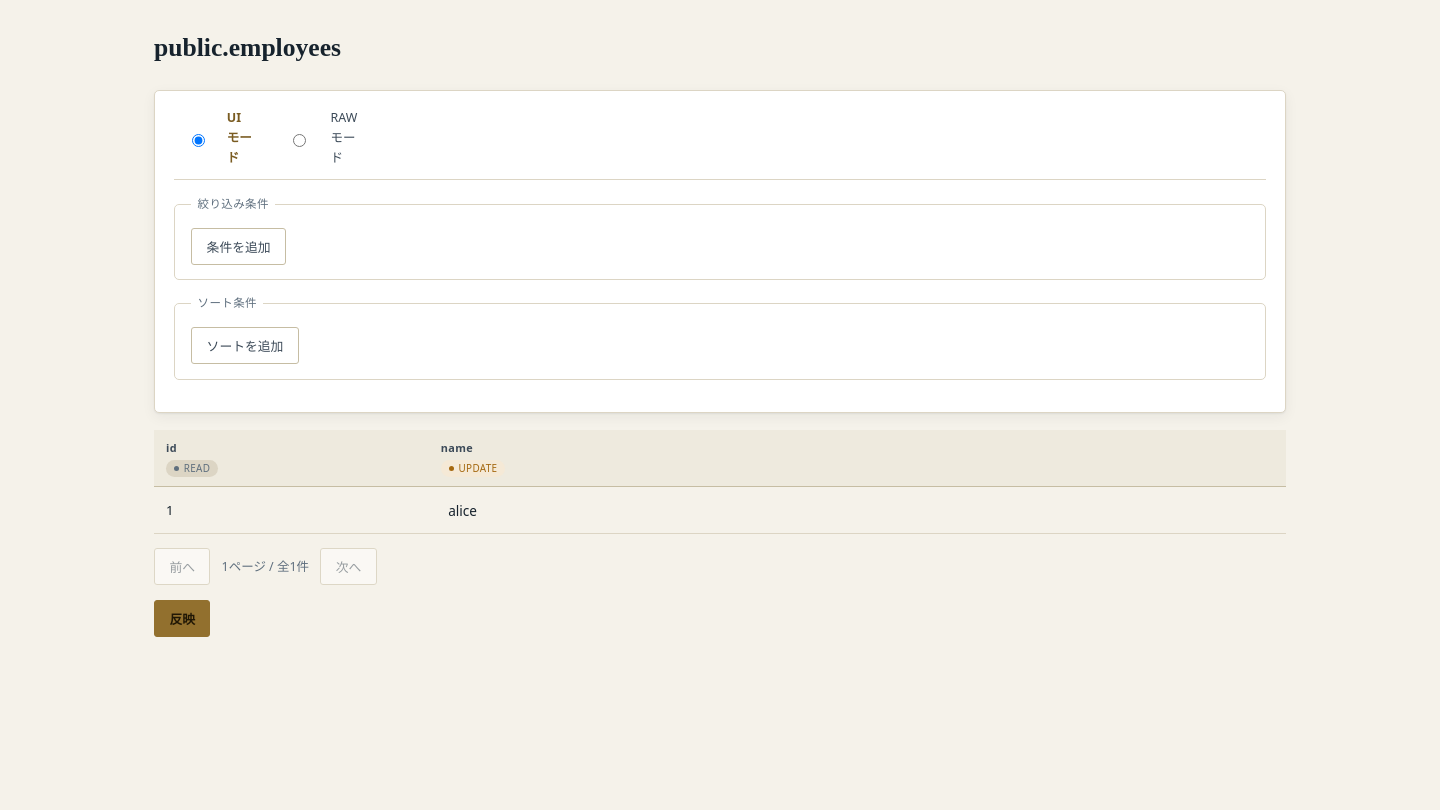
Scenario: RecordListPage › keeps pending changes when the mutation fails
Replace the text in the field showing "alice" with "bob". click: (857, 510)
box: [441,495,1274,525]
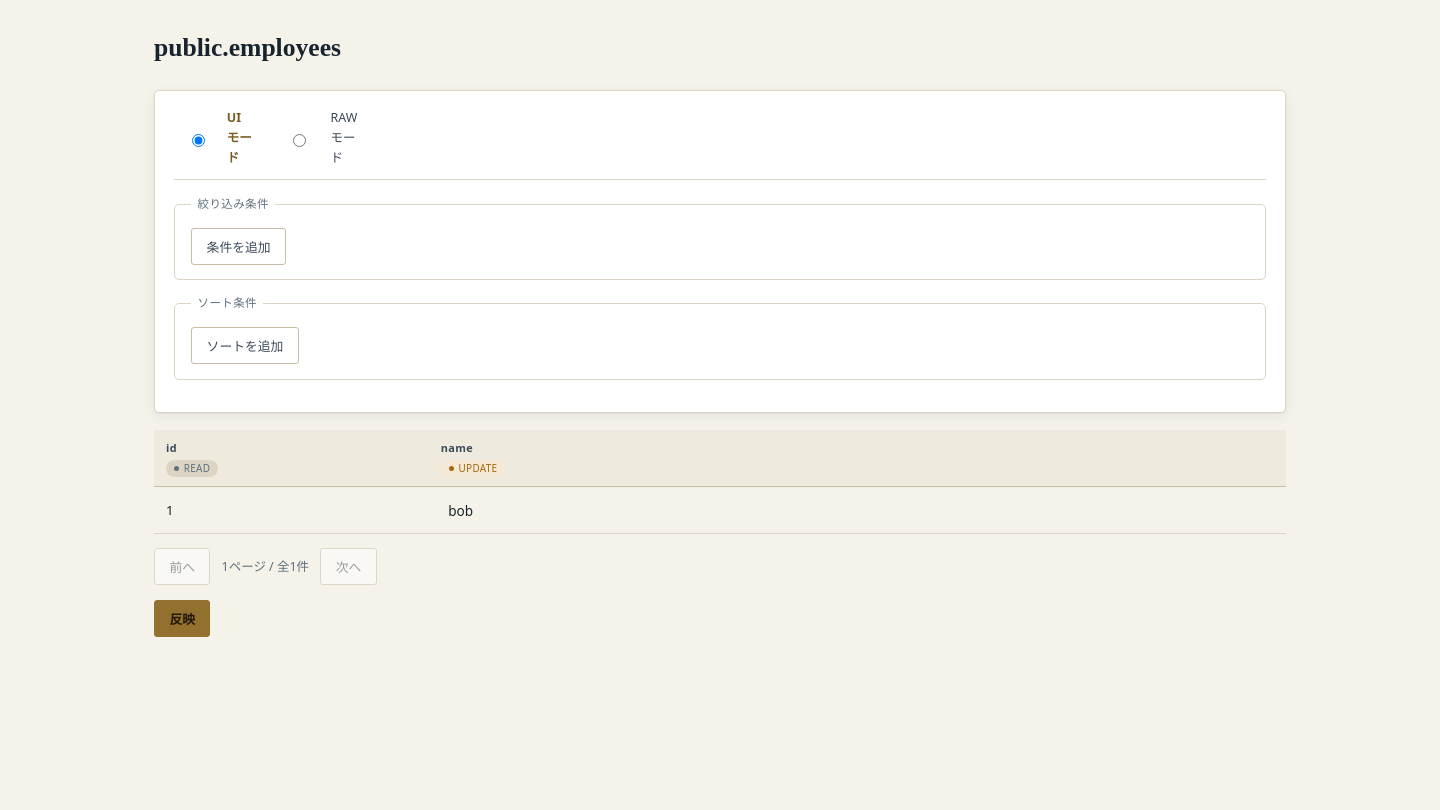
Click the button with test id "record-list-page-apply". click: (182, 618)
box: [154,600,210,637]
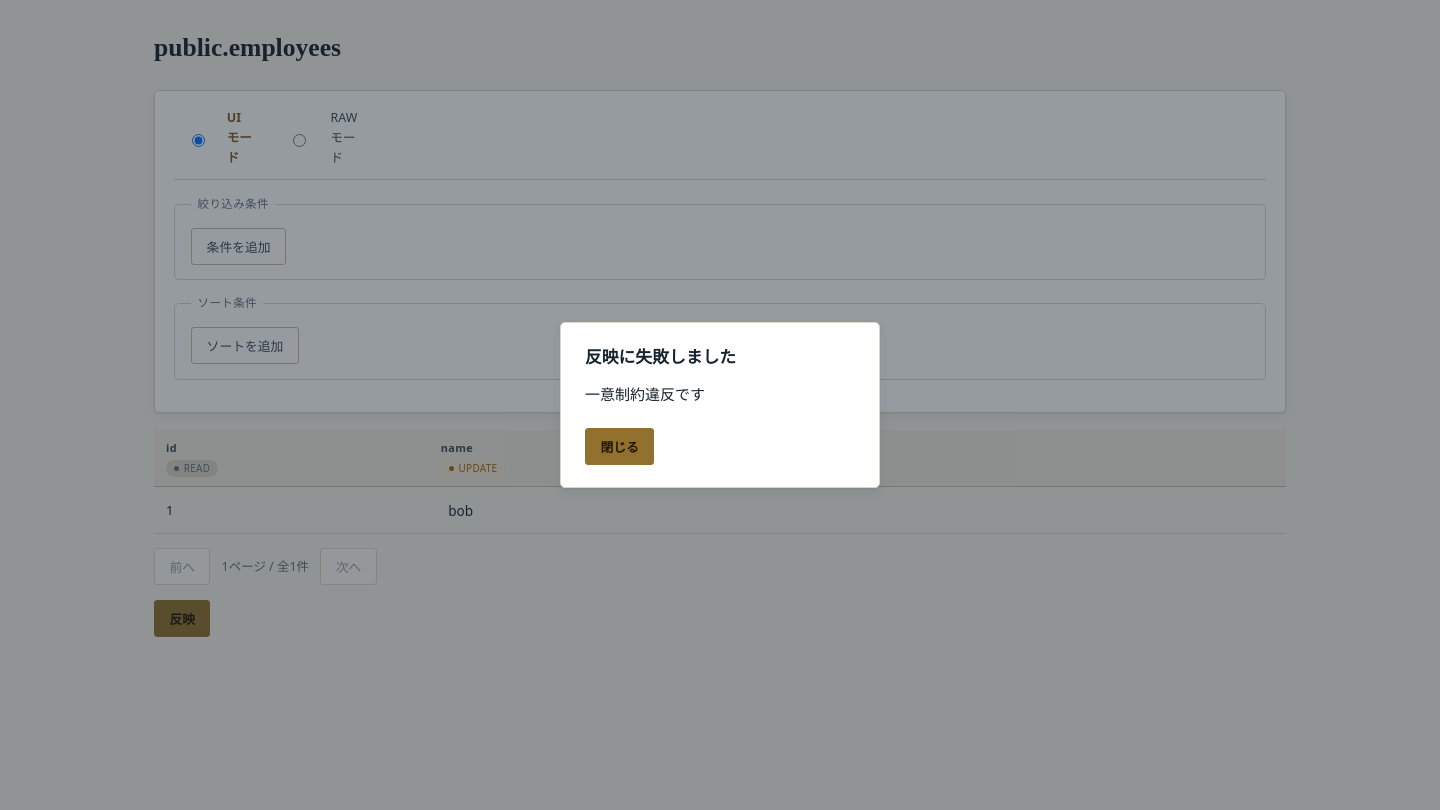
expect the heading "反映に失敗しました" is shown: met, box [585,348,736,368]
